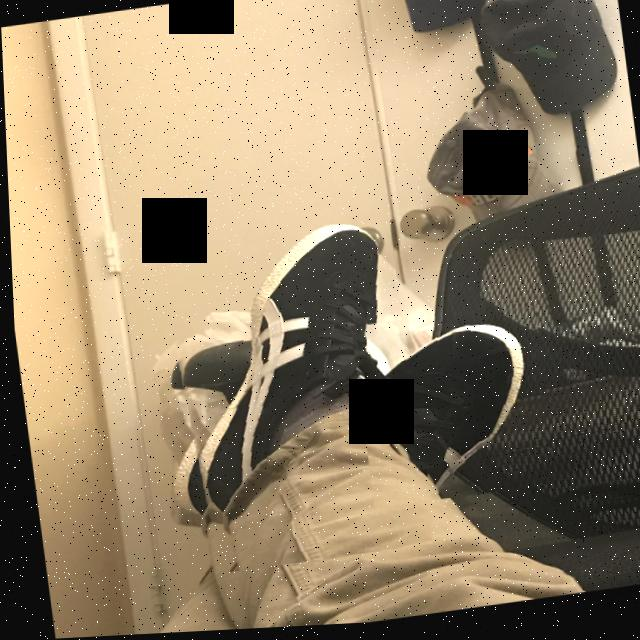shoe: (143, 170, 427, 580), (347, 305, 555, 513)
